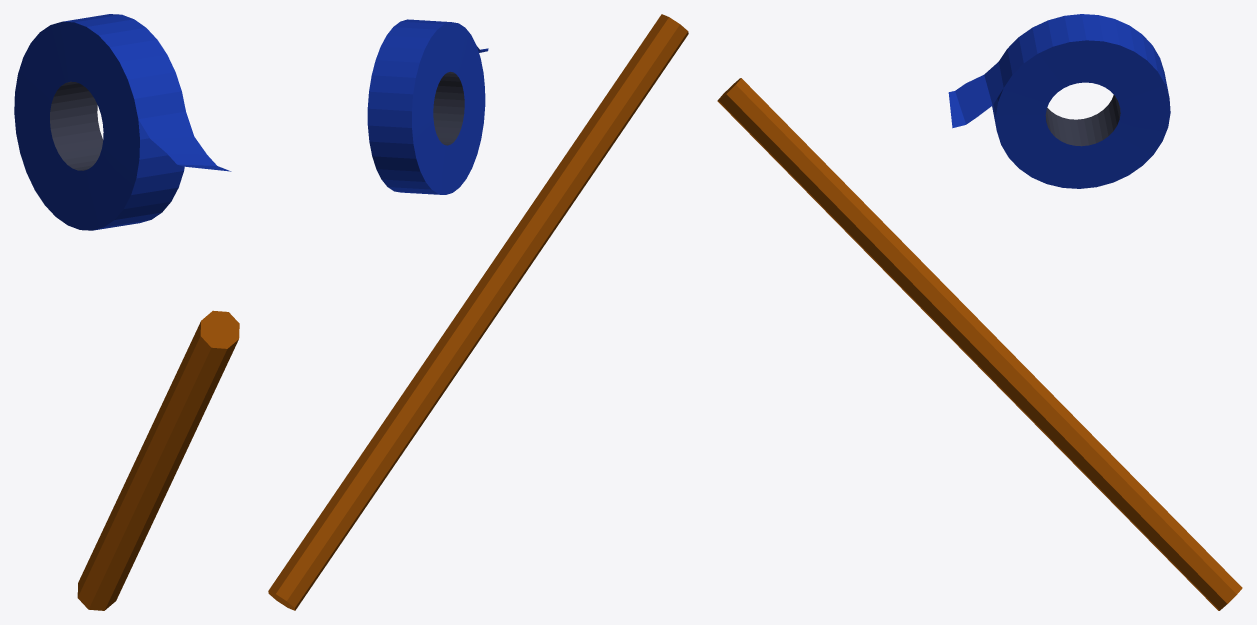
File: stick_tape.glb
3 views of the same model, side by side, from view 1: azimuth 30°, elevation 25°; view 2: azimuth 150°, elevation 25°; view 3: azimuth 270°, elevation 25° (orthographic). The views are drawn at different scales.
Parts seen in each view (by area): view 1: Torus.002, Stick; view 2: Stick, Torus.002; view 3: Torus.002, Stick.
Part boxes in pixels (bbox=[...]): Torus.002: bbox=[14, 14, 231, 230]; Stick: bbox=[77, 310, 239, 610]; Stick: bbox=[268, 14, 688, 610]; Torus.002: bbox=[367, 19, 488, 194]; Torus.002: bbox=[948, 14, 1170, 188]; Stick: bbox=[717, 78, 1242, 610].
Size of the model in its own units: 0.2644 by 0.7906 by 0.6769.
